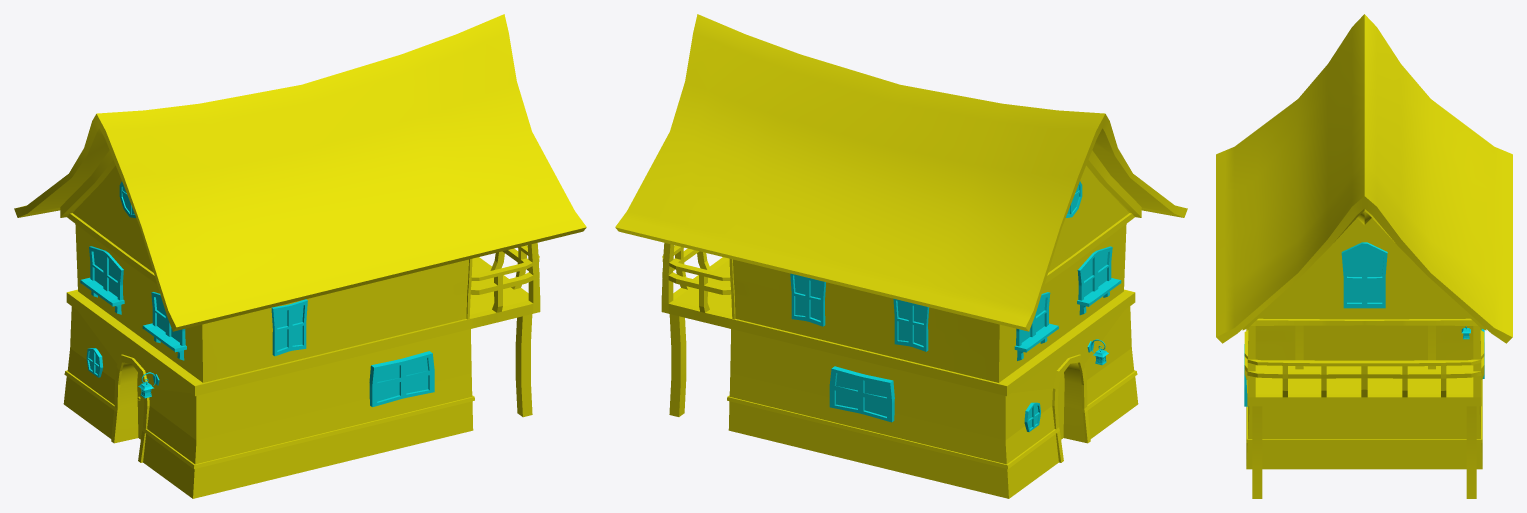
The model's file is House_1.fbx.
3 renders of one model, left to right at view 1: azimuth 30°, elevation 25°; view 2: azimuth 150°, elevation 25°; view 3: azimuth 270°, elevation 25°, orthographic. The views are drawn at different scales.
Visible parts, largest first — view 1: house, house_komono; view 2: house, house_komono; view 3: house, house_komono.
Part boxes in pixels (x1,y1,x2,y2): house: (14, 14, 586, 498); house_komono: (80, 181, 434, 407); house: (615, 14, 1187, 498); house_komono: (790, 181, 1121, 431); house: (1216, 14, 1512, 498); house_komono: (1244, 242, 1484, 406).
Size of the model in its own units: 1028 by 833 by 705.
